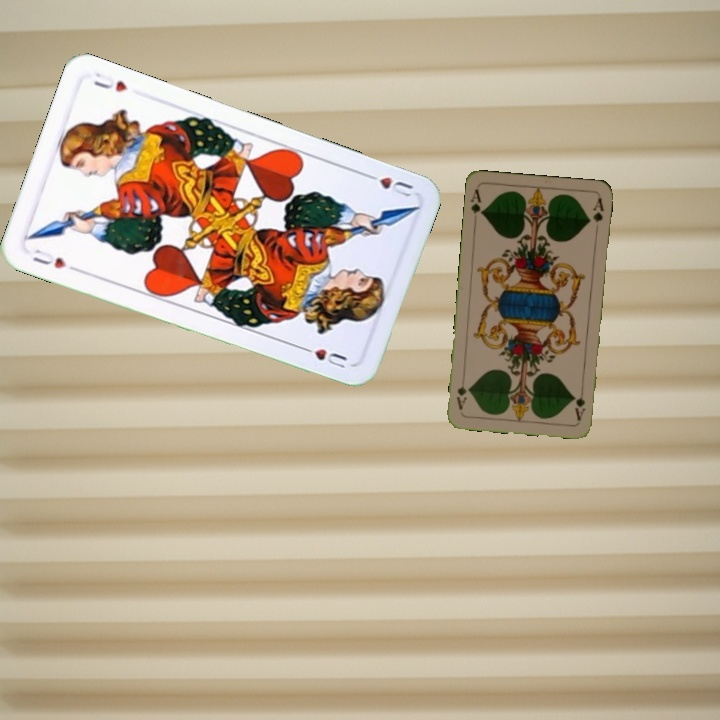GA: (571, 383, 588, 423), (467, 185, 486, 217)
HU: (360, 169, 417, 200), (27, 244, 81, 274)
